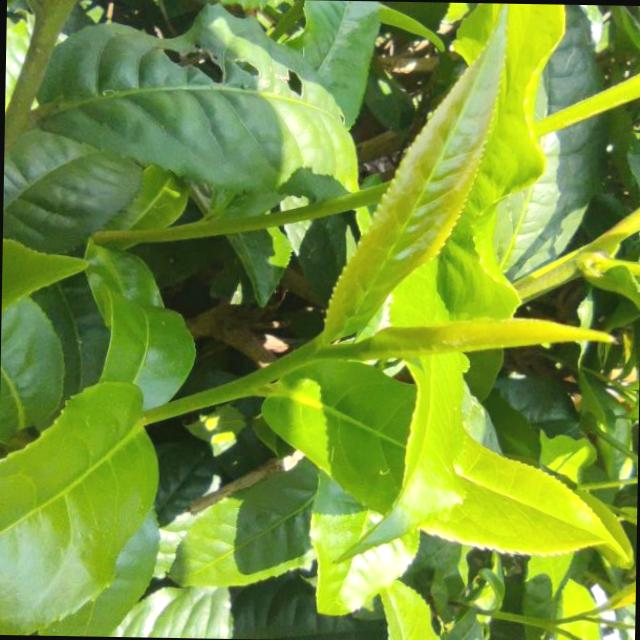Stem: (289, 339, 322, 369)
